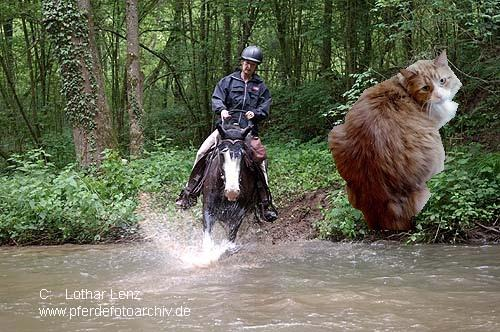tampered: (328, 50, 462, 230)
